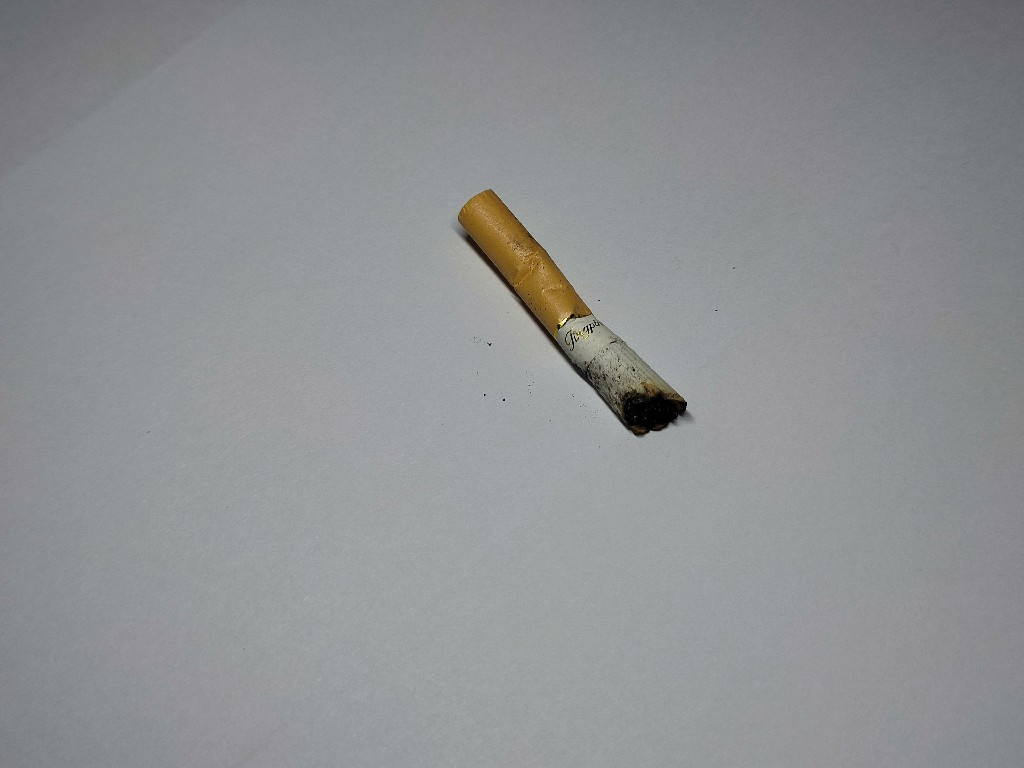cigarette: (453, 184, 694, 442)
